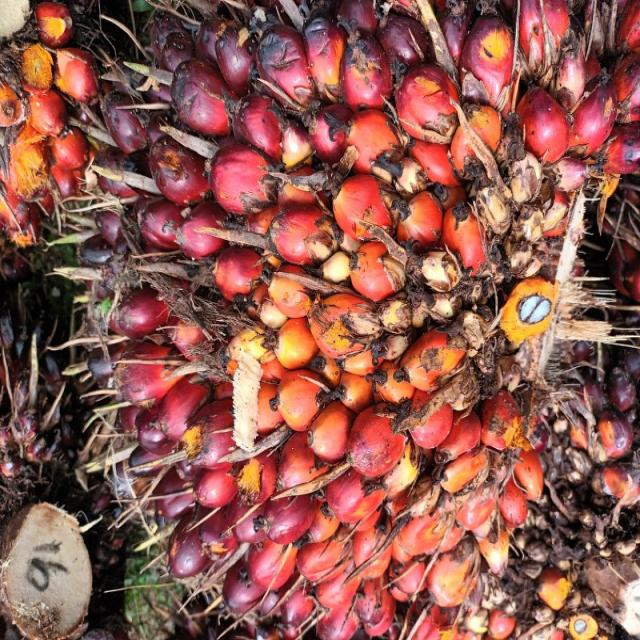fraksi 1: (0, 117, 480, 640)
